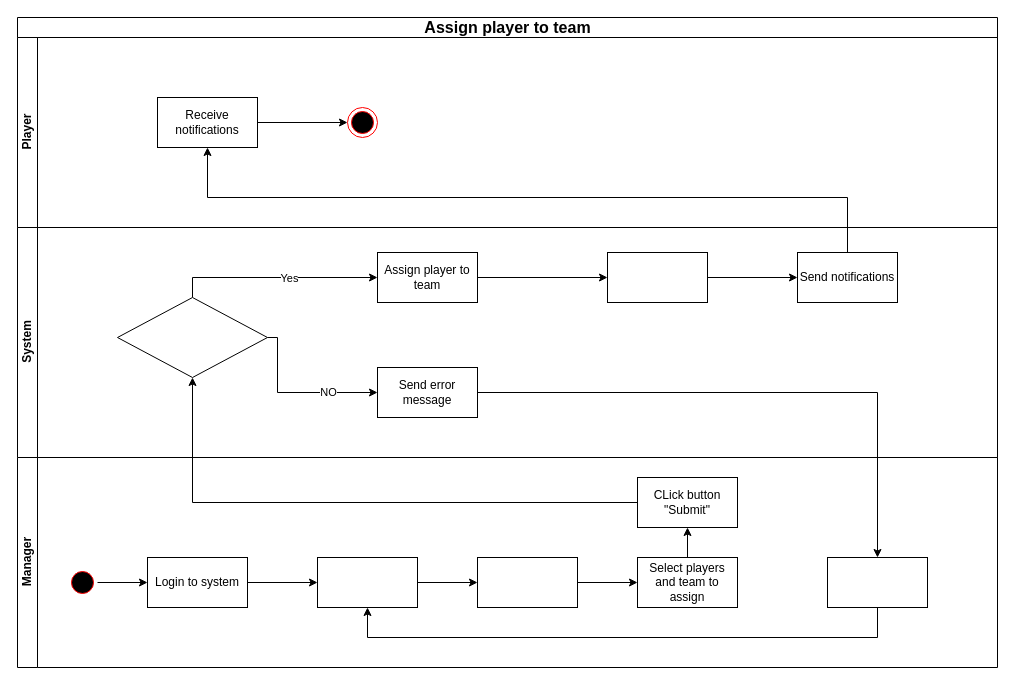
The diagram is 1015 pixels wide and 685 high, and some of its shapes have lost their labels. The shapes that lost their labels are listed below. From the top down, each one's centre as x and y in pixels, then its label:
At point (657, 277): "Update data".
At point (192, 337): "Check players available".
At point (367, 582): "Access player management".
At point (527, 582): "Select the list of players without a Team".
At point (877, 582): "Receive error message".
